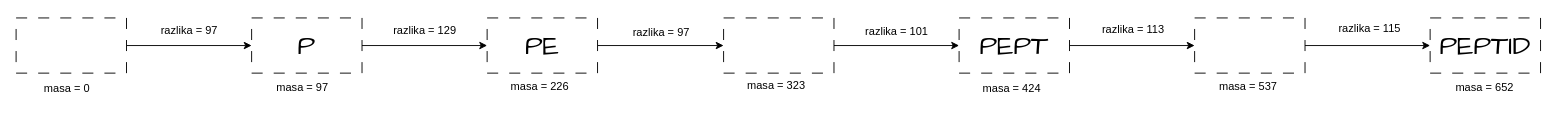
The diagram is 1557 pixels wide and 116 high, and some of its shapes have lost their labels. Each missing label, with the centre of its shape:
"PEP" belongs at point (778, 45).
"PEPTI" belongs at point (1249, 45).
